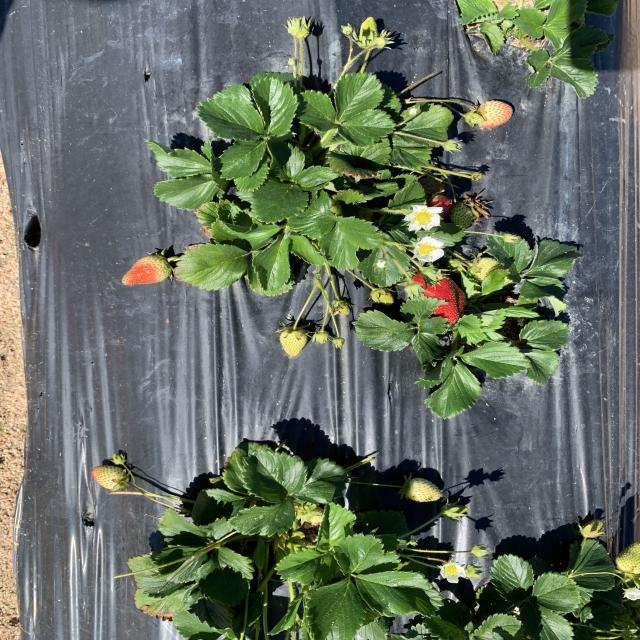unripe: (409, 264, 469, 324), (428, 194, 455, 218)
